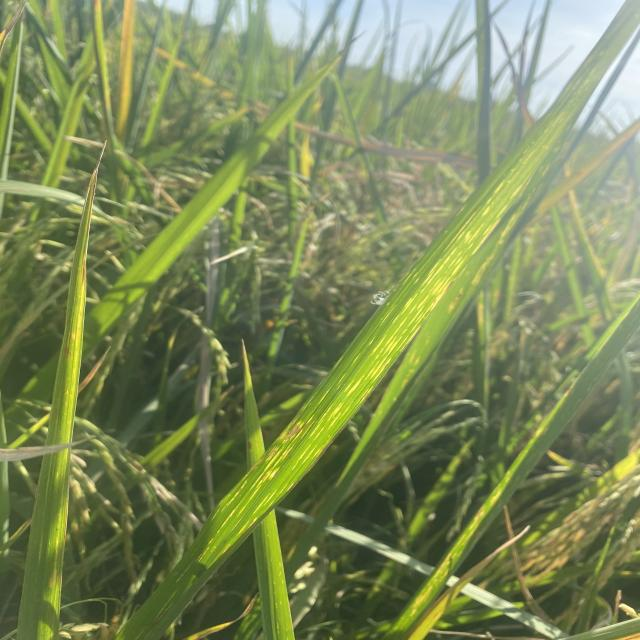Dom soc vi khuan: (370, 336, 403, 379), (379, 317, 407, 354), (372, 358, 392, 383), (346, 375, 364, 397), (401, 293, 419, 315), (408, 305, 424, 327), (371, 335, 387, 356), (365, 361, 379, 380)
